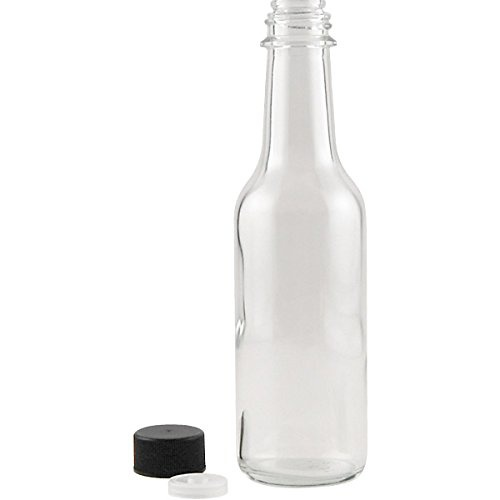emptybottle: (234, 1, 366, 484)
